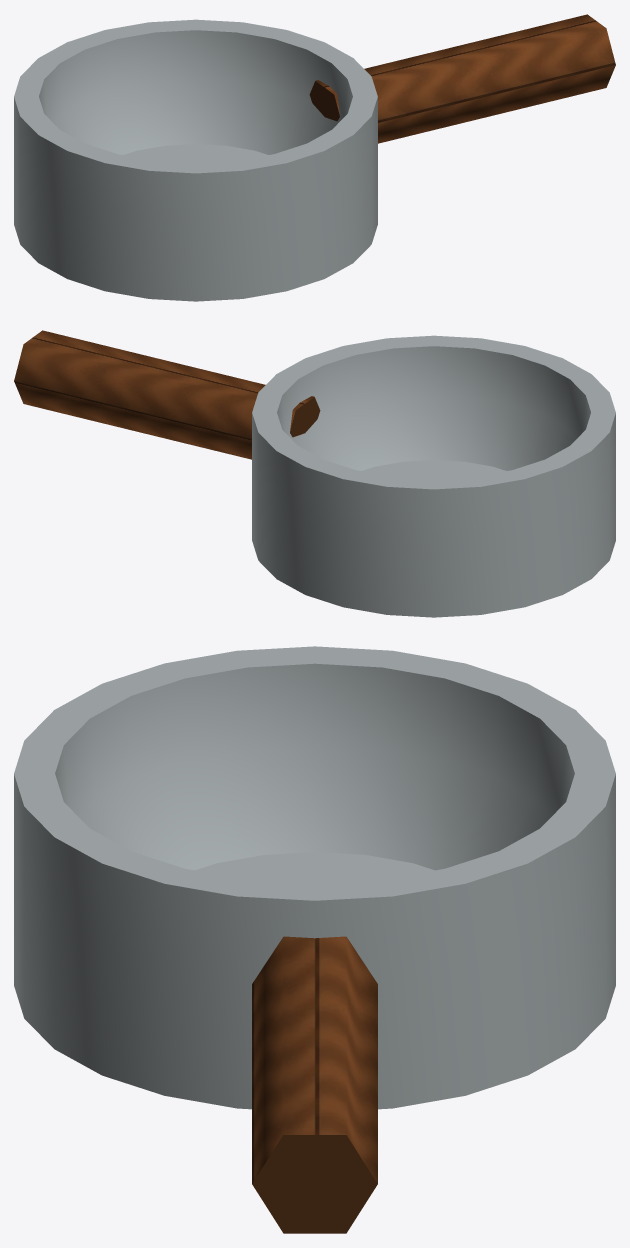
3 views of the same model, one above another, from view 1: azimuth 30°, elevation 25°; view 2: azimuth 150°, elevation 25°; view 3: azimuth 270°, elevation 25° (orthographic). The views are drawn at different scales.
Parts seen in each view (by area): view 1: measuring-grain-scoop; view 2: measuring-grain-scoop; view 3: measuring-grain-scoop.
Part boxes in pixels (x1,y1,x2,y2): measuring-grain-scoop: (14,14,615,301); measuring-grain-scoop: (14,330,615,617); measuring-grain-scoop: (14,646,615,1233).
Size of the model in its own units: 0.39 by 0.09 by 0.22.
2 materials, 1 textured.
